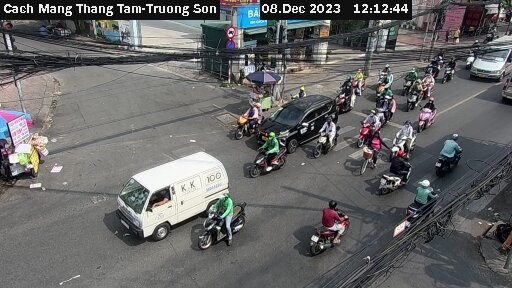car: (118, 150, 227, 239), (474, 34, 510, 81)
motorbike: (312, 202, 355, 259), (196, 202, 252, 245), (240, 134, 292, 172), (429, 130, 473, 171), (399, 181, 440, 219), (374, 150, 408, 192), (308, 116, 344, 153), (233, 100, 267, 137), (388, 116, 419, 156), (329, 81, 364, 111), (414, 98, 450, 125), (401, 77, 435, 104), (370, 70, 397, 102), (440, 56, 465, 83), (420, 55, 445, 81)
